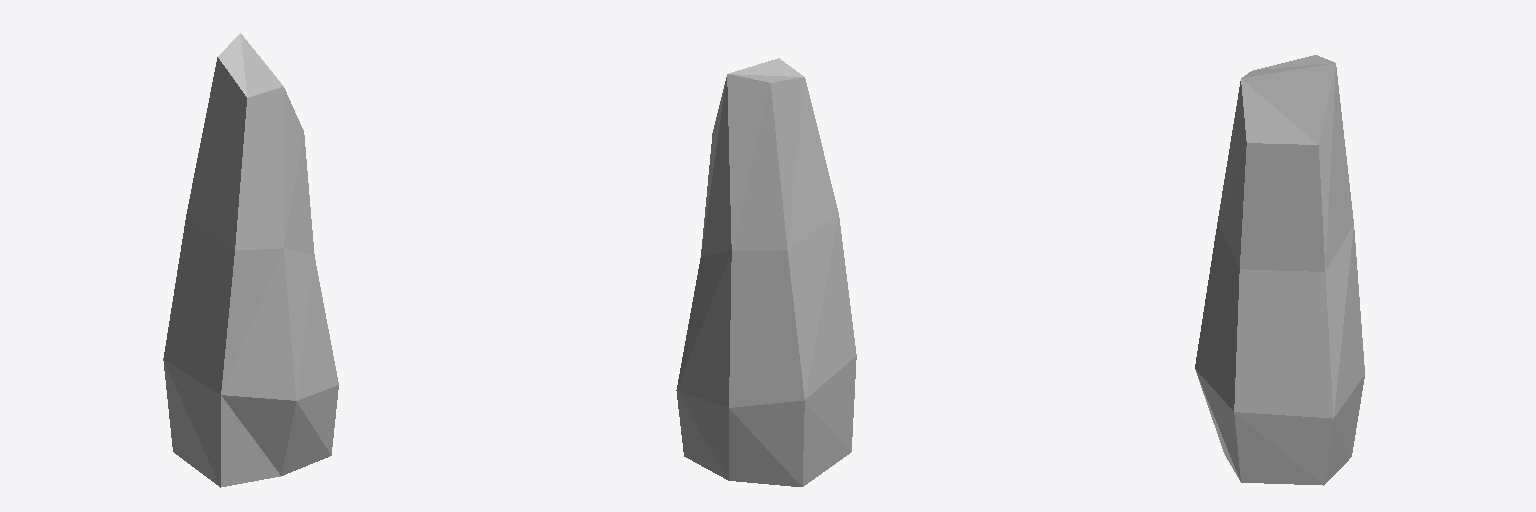
The model's file is RockTall2.obj.
The picture shows the model from 3 angles: view 1: azimuth 30°, elevation 25°; view 2: azimuth 150°, elevation 25°; view 3: azimuth 270°, elevation 25°; orthographic projection.
Visible parts, largest first — view 1: RockTall2_Cube.002; view 2: RockTall2_Cube.002; view 3: RockTall2_Cube.002.
Part boxes in pixels (bbox=[...]): RockTall2_Cube.002: bbox=[163, 33, 338, 487]; RockTall2_Cube.002: bbox=[676, 58, 856, 486]; RockTall2_Cube.002: bbox=[1195, 55, 1364, 485].
Bounding box in the file's own units: 2.04 × 6.01 × 2.33.